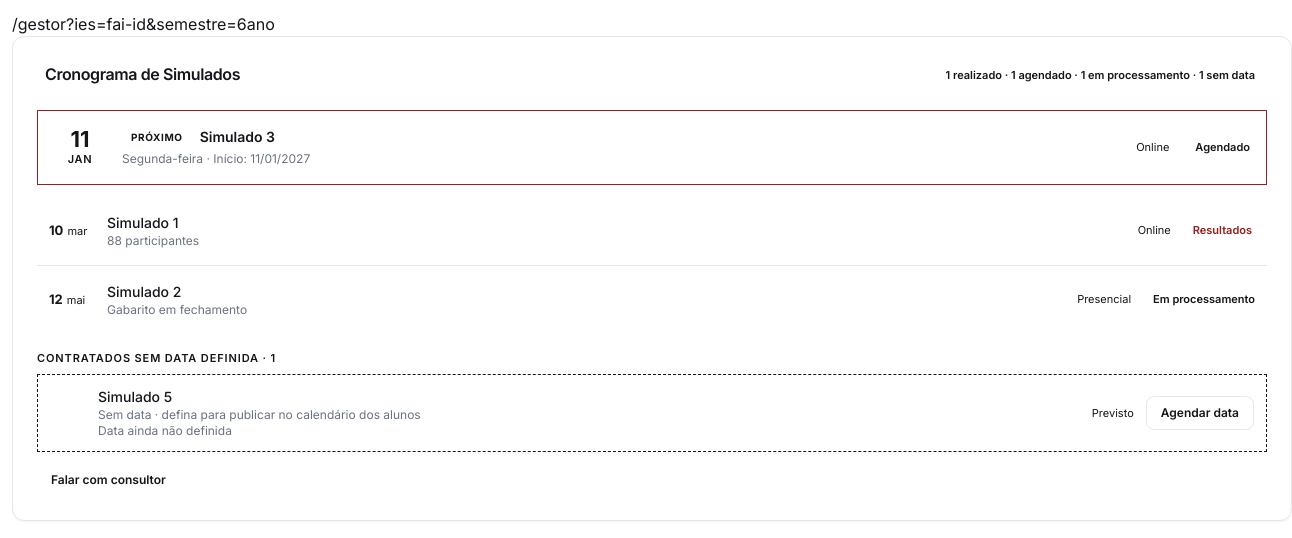
Test case: CronogramaSimulados — navegação para o Detalhamento (spec §2.1, §4.7) › preserva ies e semestre já na URL — só troca/adiciona simulados (achado de QA 04/08)
The image size is (1292, 538).
Click the button with test id "cronograma-item-s1": (116, 232) [37, 200, 1267, 260]
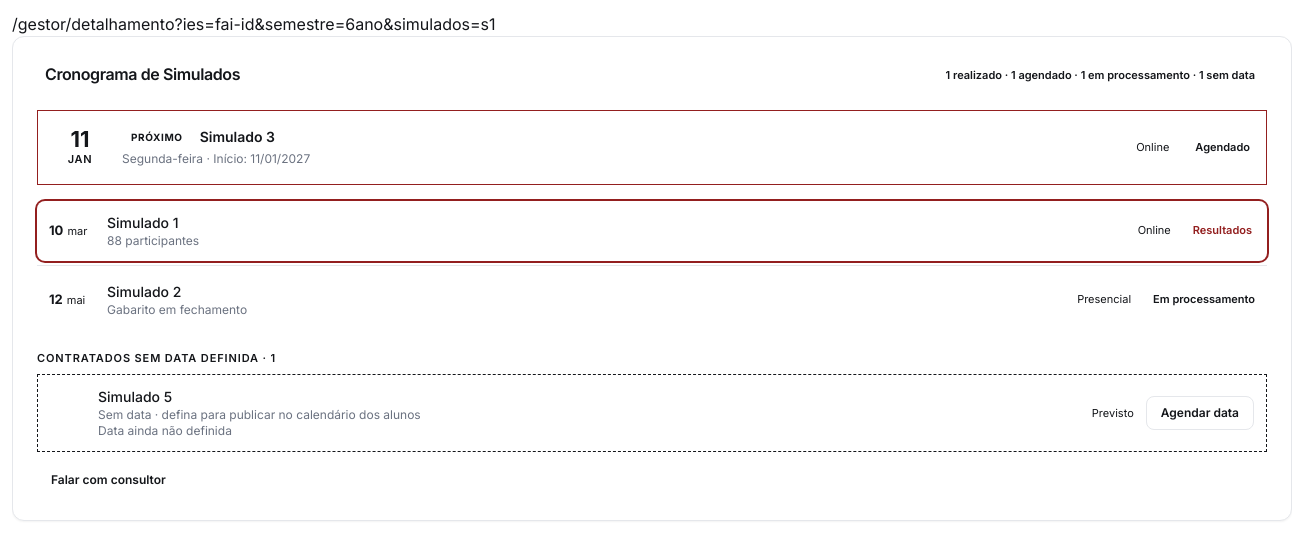
Check: the text with test id "rota" shows "ies=fai-id", box [12, 14, 496, 34]
Check: the text with test id "rota" shows "/gestor/detalhamento", box [12, 14, 496, 34]
Check: the text with test id "rota" shows "simulados=s1", box [12, 14, 496, 34]
